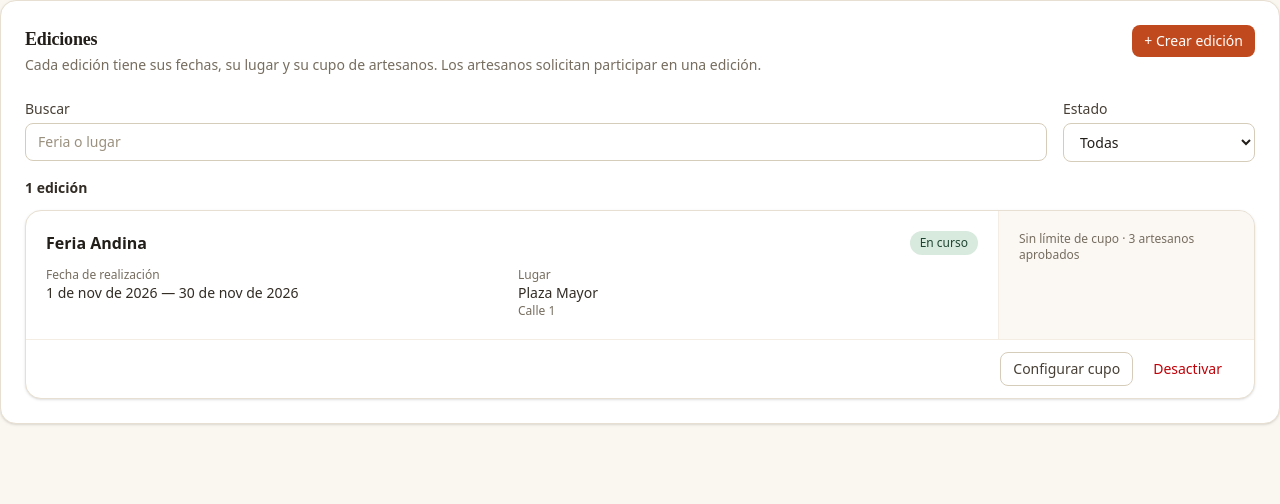
Test: GestionEdiciones: cupo › guarda un nuevo cupo
Click the button "Configurar cupo" at (1067, 369), box [1000,352,1133,386]
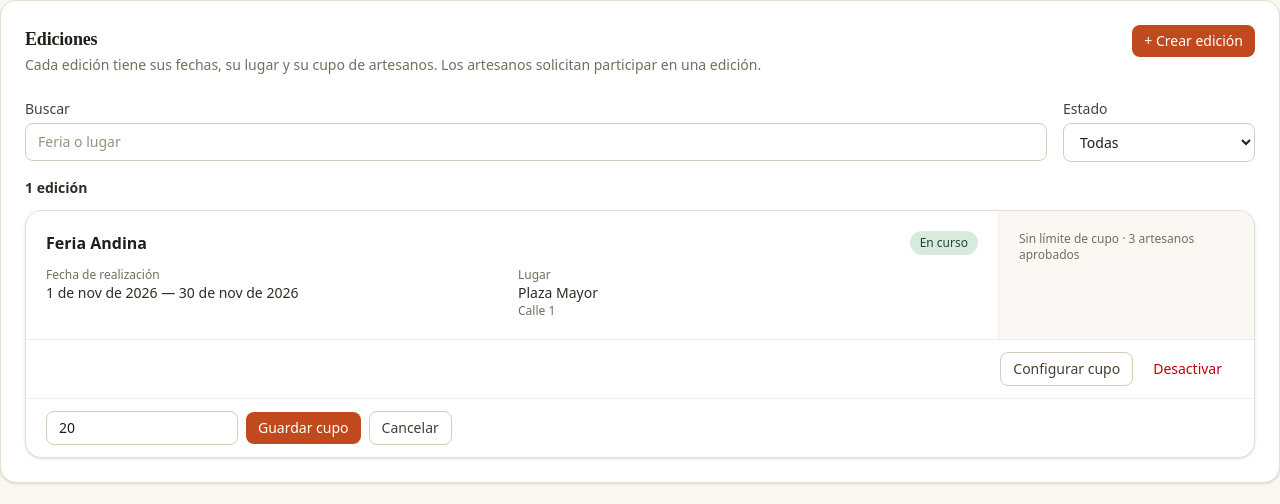
Replace the text in the number field named "Cupo máximo de artesanos" with "35" at (142, 428), box [46,411,238,445]
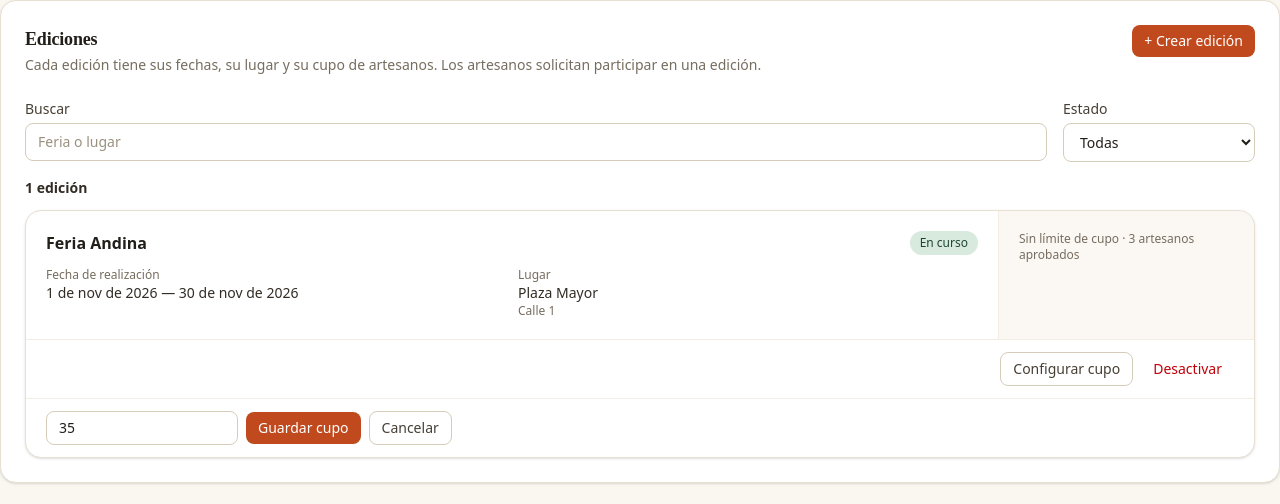
Click the button "Guardar cupo" at (303, 428), box [246,412,360,444]
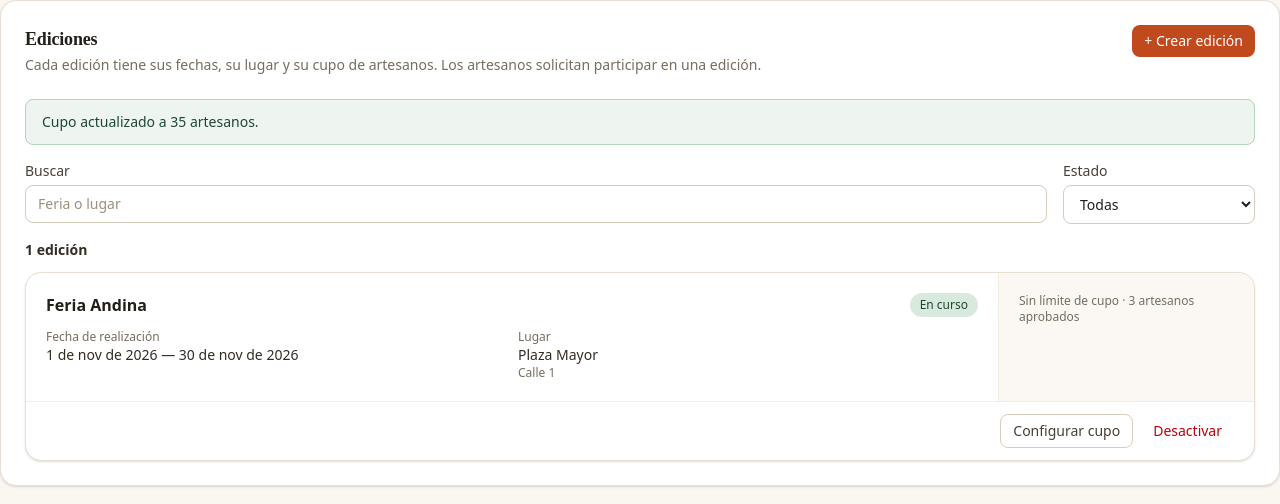
Expected: the text "Cupo actualizado a 35 artesanos." is shown, [25,99,1255,145]
